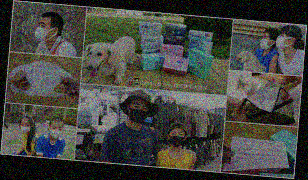with_mask: (127, 102, 150, 125), (34, 21, 53, 43), (169, 130, 185, 148), (276, 33, 291, 51), (49, 125, 63, 140), (260, 35, 272, 51), (19, 121, 31, 134)
